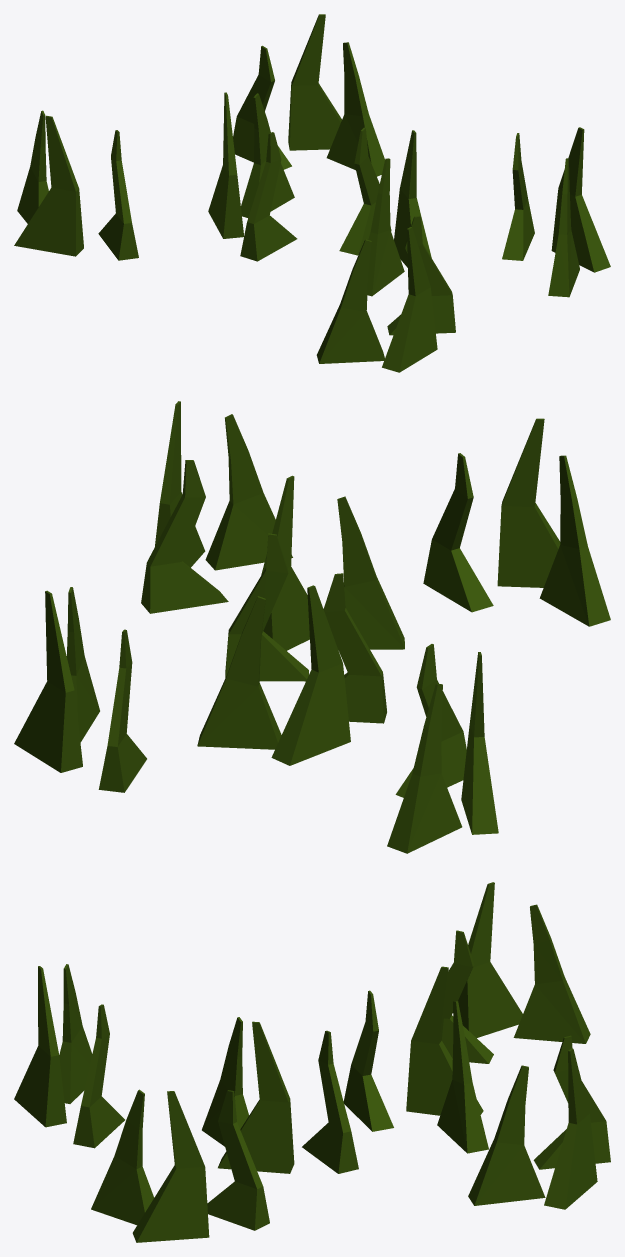
Rendered from gramaemfbx.FBX.
3 renders of one model, top to bottom at view 1: azimuth 30°, elevation 25°; view 2: azimuth 150°, elevation 25°; view 3: azimuth 270°, elevation 25°, orthographic. The views are drawn at different scales.
Visible parts, largest first — view 1: Cube_009_Cube_010, Cube_002, Cube_003, Cube_000, Cube_001, Cube_004; view 2: Cube_000, Cube_009_Cube_010, Cube_001, Cube_004, Cube_003, Cube_002; view 3: Cube_001, Cube_003, Cube_002, Cube_000, Cube_004, Cube_009_Cube_010.
Part boxes in pixels (x1,y1,x2,y2): Cube_009_Cube_010: (316,215,455,372); Cube_002: (233,14,384,176); Cube_003: (14,110,138,260); Cube_000: (208,92,297,261); Cube_001: (502,127,610,297); Cube_004: (339,127,431,296); Cube_000: (197,573,386,765); Cube_009_Cube_010: (423,418,610,626); Cube_001: (141,401,292,613); Cube_004: (225,475,404,681); Cube_003: (387,644,498,853); Cube_002: (14,587,146,792); Cube_001: (91,1089,269,1242); Cube_003: (441,882,590,1063); Cube_002: (468,1035,610,1209); Cube_000: (343,966,488,1153); Cube_004: (202,1017,358,1173); Cube_009_Cube_010: (14,964,124,1148).
Size of the model in its own units: 1.08 by 0.3159 by 1.19.
